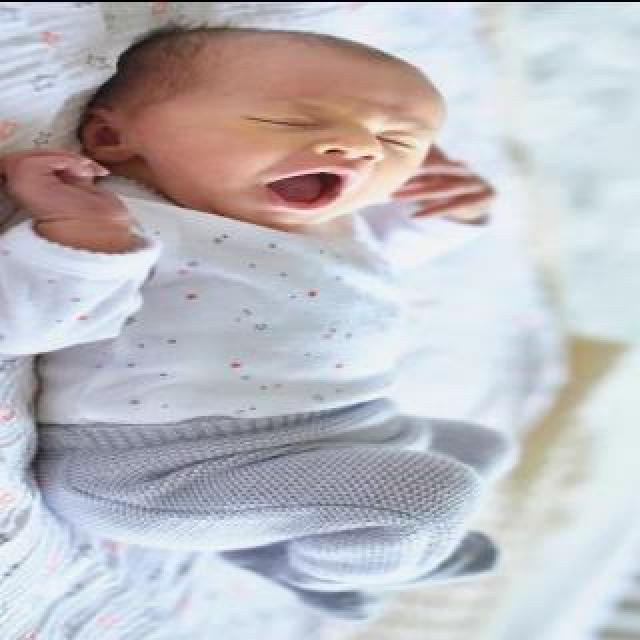baby: (1, 25, 517, 613)
